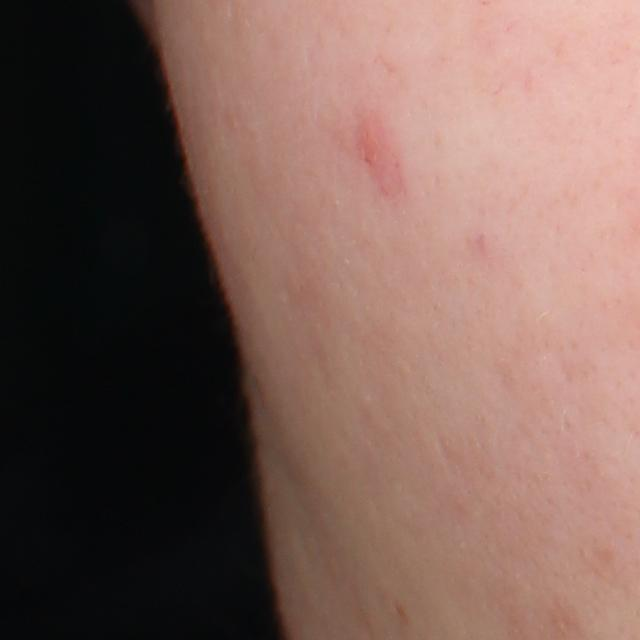papule: (354, 115, 391, 171)
